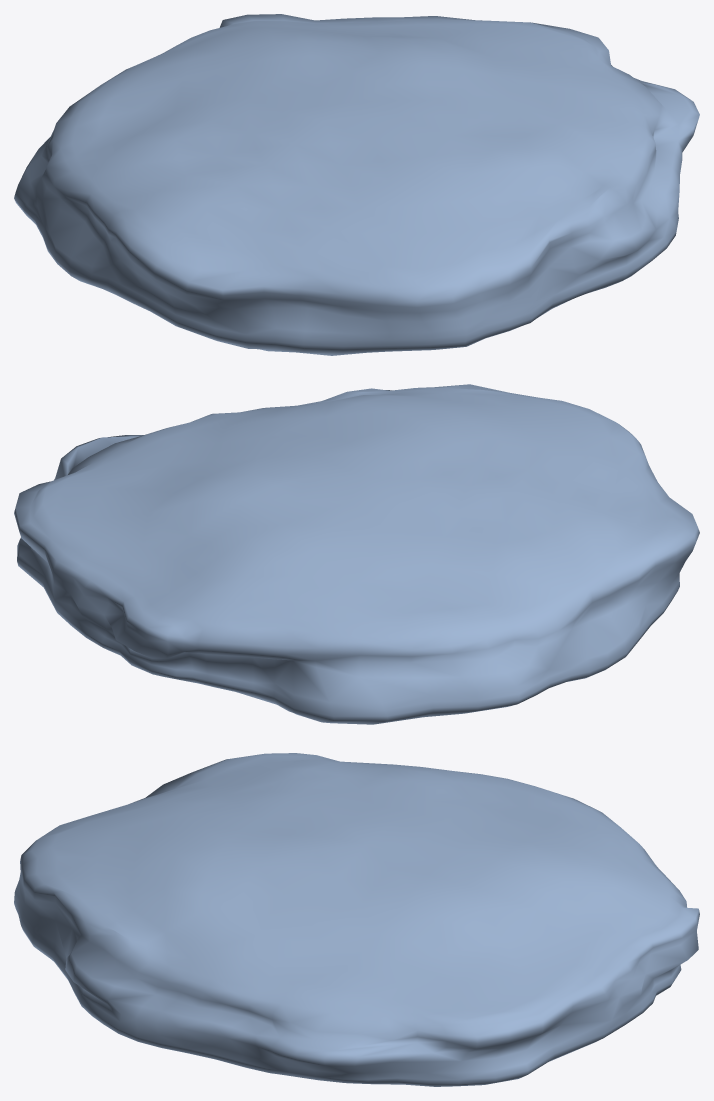
Rendered from junRoadPlatform60.fbx.
3 views of the same model, one above another, from view 1: azimuth 30°, elevation 25°; view 2: azimuth 150°, elevation 25°; view 3: azimuth 270°, elevation 25° (orthographic). The views are drawn at different scales.
Visible parts, largest first — view 1: platform60_LOD0; view 2: platform60_LOD0; view 3: platform60_LOD0.
Boxes of the visible parts, x1,y1,x2,y2 form: platform60_LOD0: (14, 14, 699, 355); platform60_LOD0: (14, 384, 699, 724); platform60_LOD0: (14, 753, 699, 1086).
Size of the model in its own units: 7269 by 1763 by 7305.
